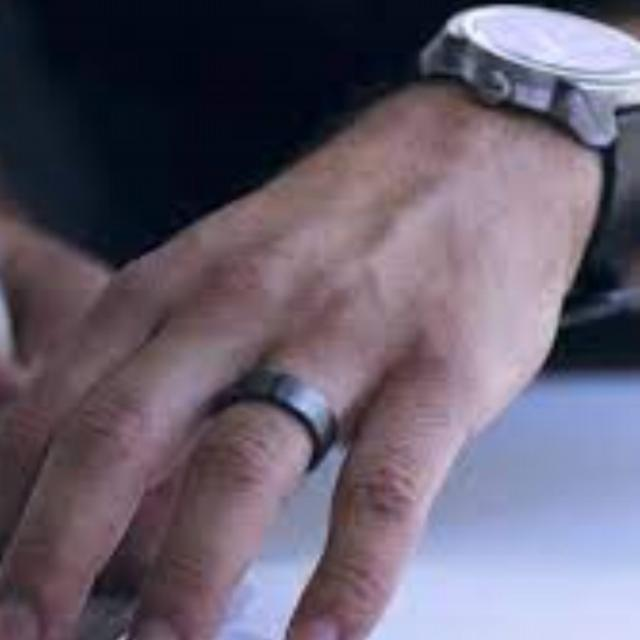Watch: (414, 2, 640, 172)
